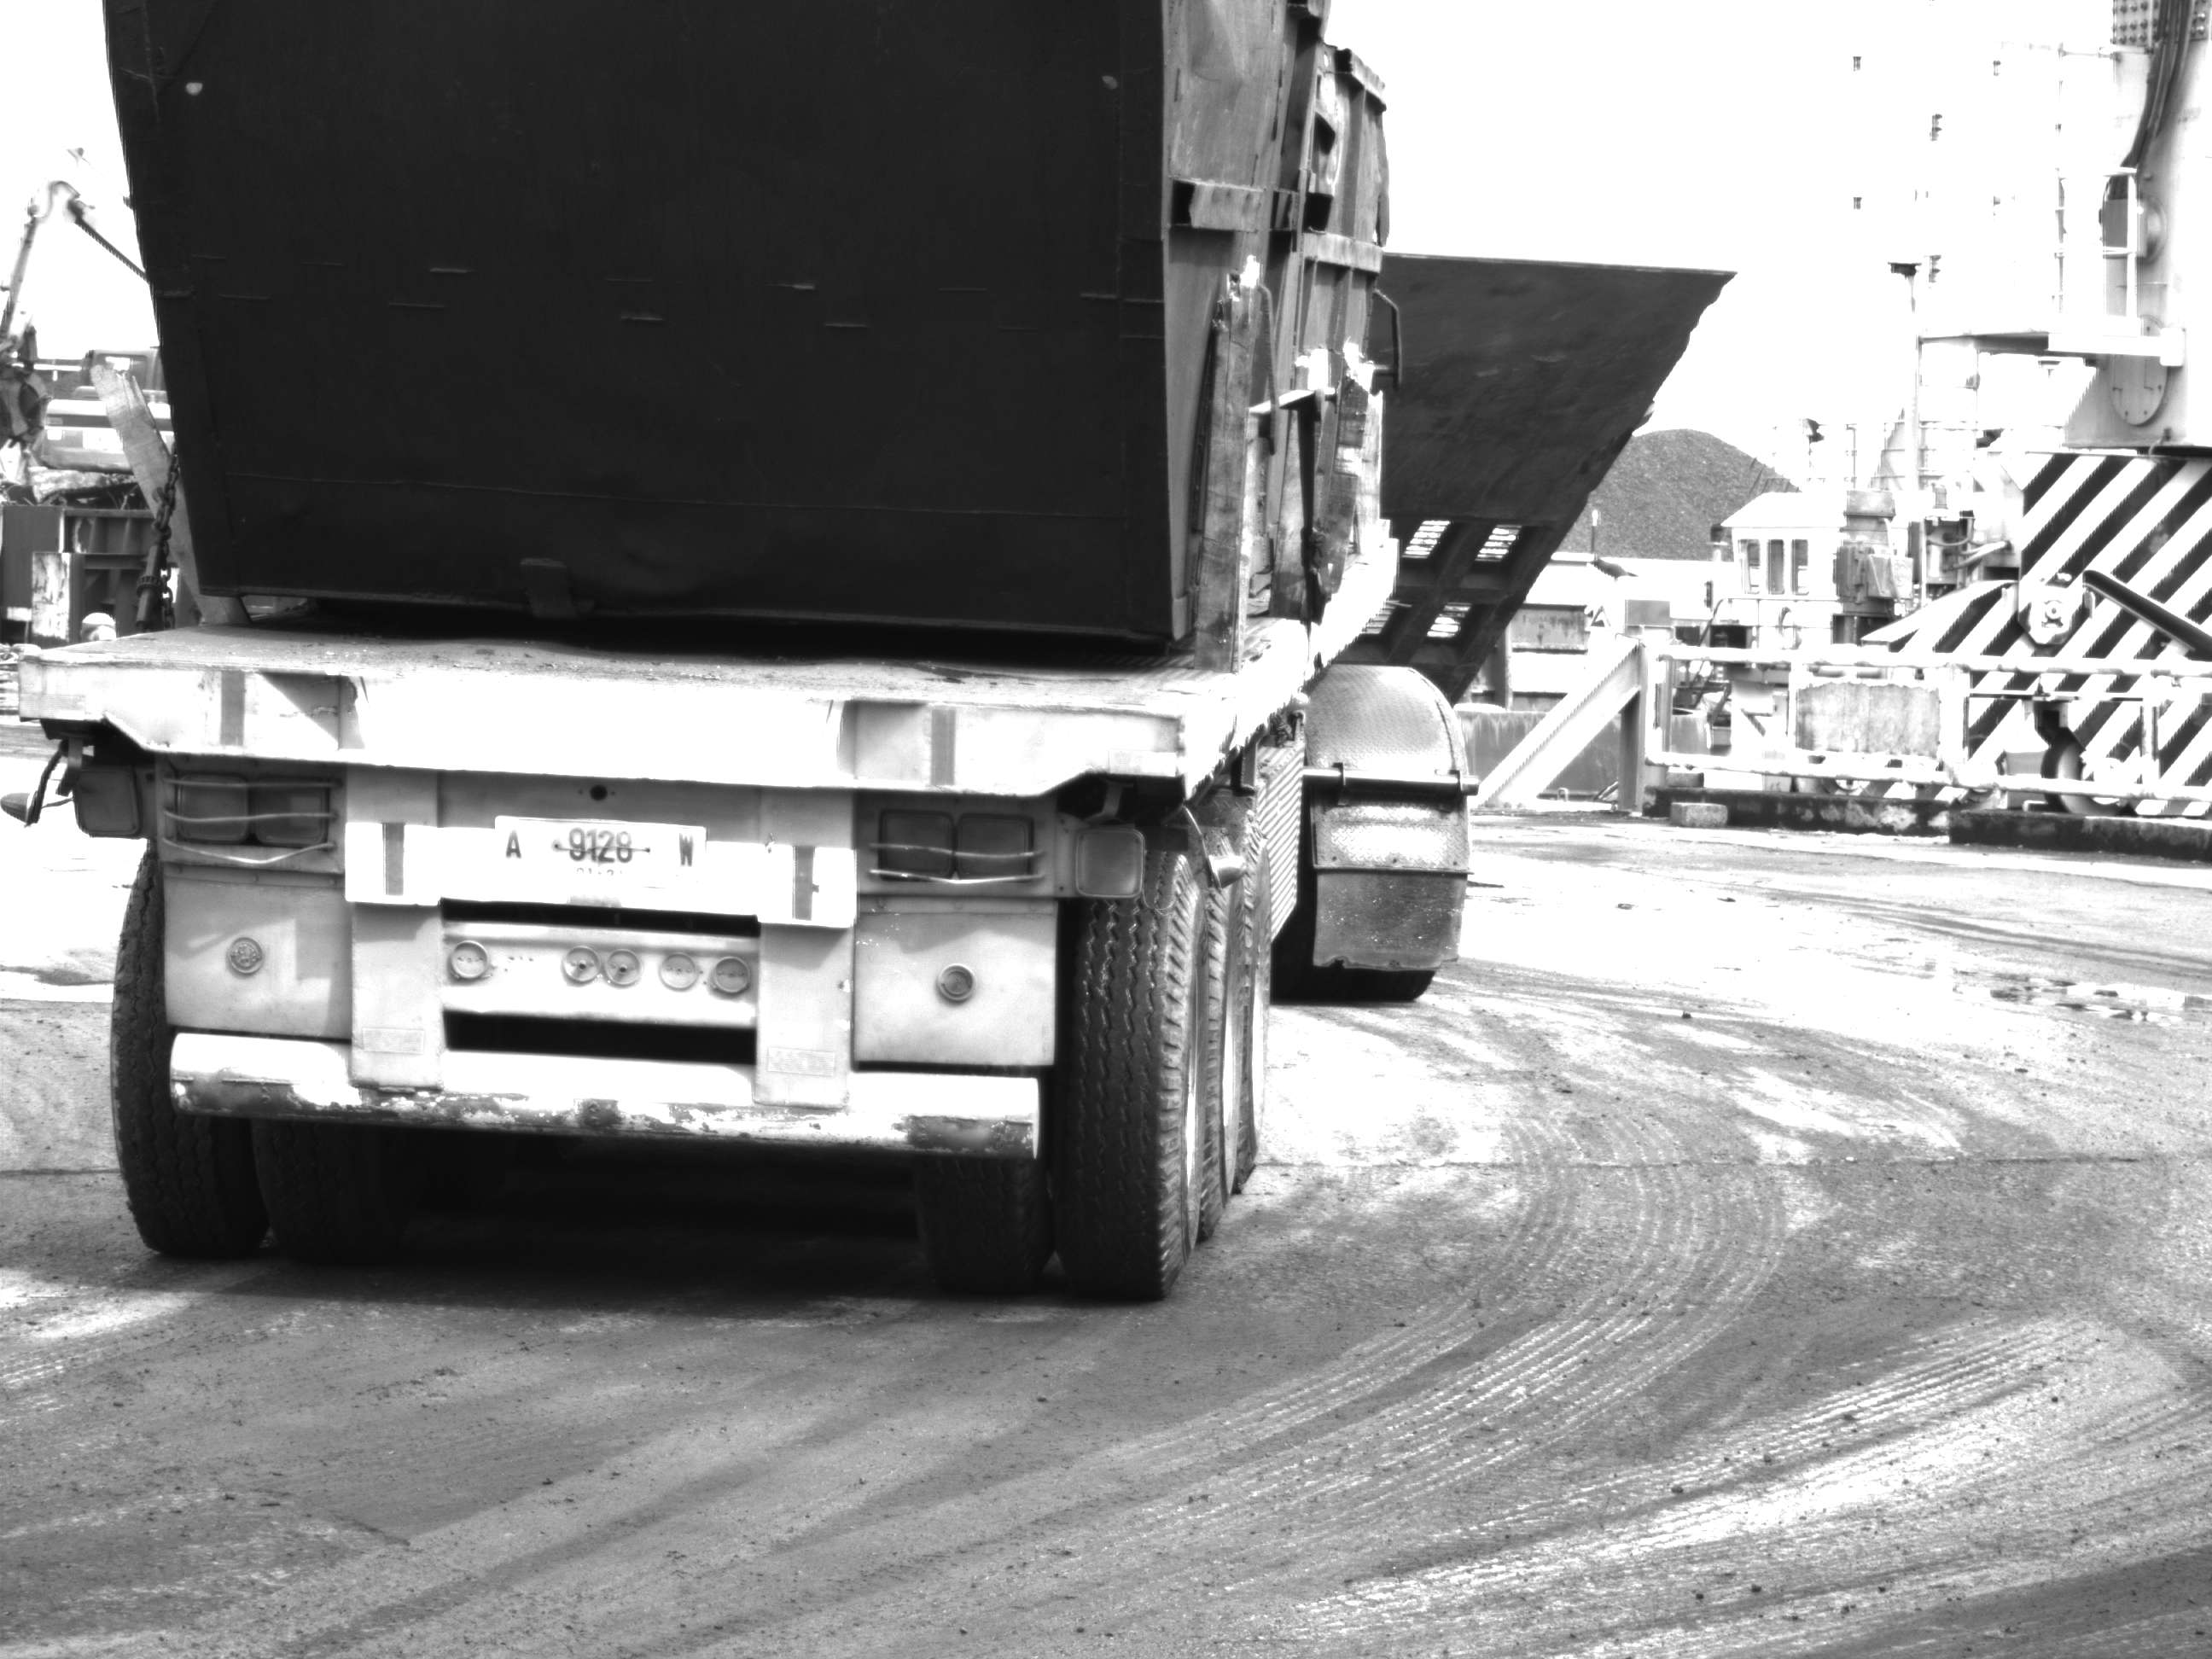day_truck_rear: (9, 596, 1247, 1319)
plate: (492, 818, 710, 896)
